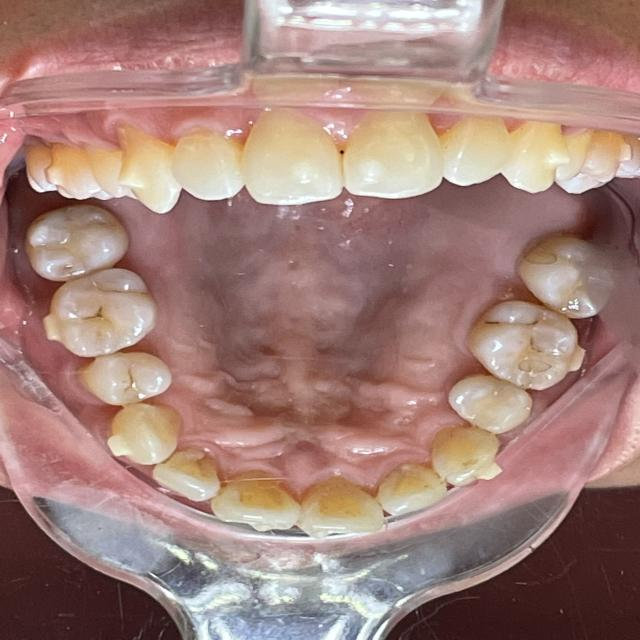tooth: (455, 290, 588, 395), (34, 264, 170, 361), (506, 224, 625, 325), (12, 198, 144, 289), (69, 345, 182, 416), (295, 470, 392, 545), (440, 365, 540, 437), (206, 467, 304, 540), (101, 399, 192, 470), (424, 420, 509, 490), (138, 443, 233, 503), (372, 458, 453, 522)
